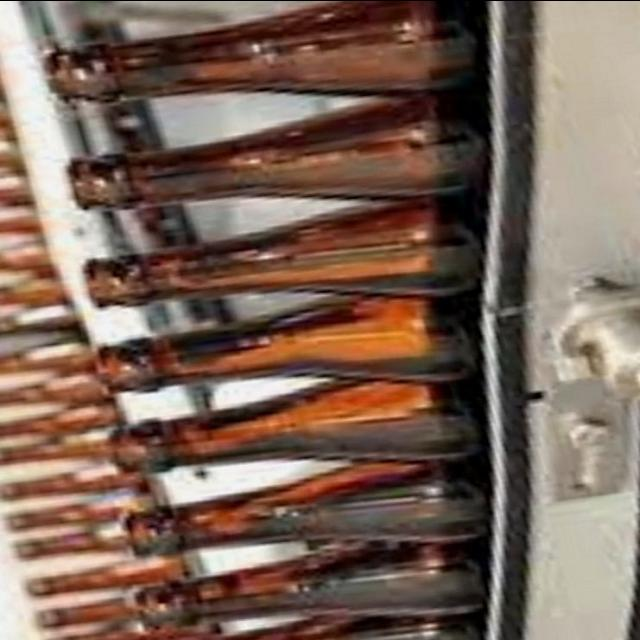bottle: (62, 89, 490, 213), (88, 462, 558, 566), (80, 192, 484, 310), (37, 1, 486, 107), (90, 374, 506, 484), (91, 293, 481, 397)
food: (11, 3, 500, 639)
